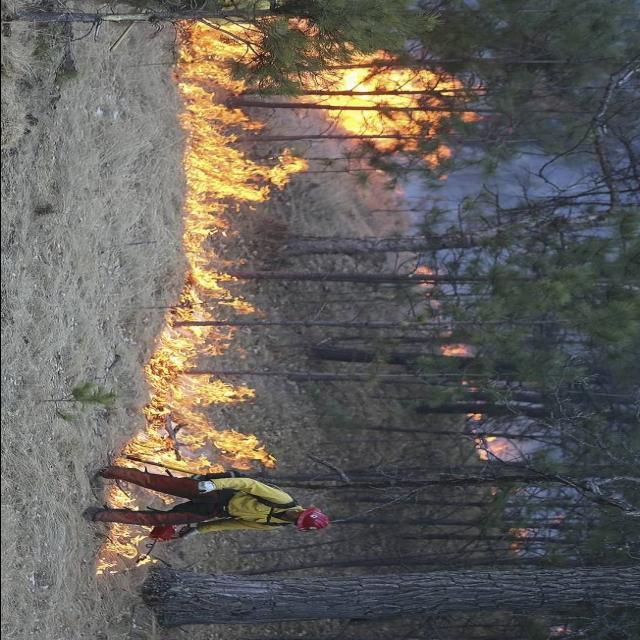Fire: (86, 207, 306, 579), (174, 10, 498, 204), (466, 410, 511, 460), (433, 340, 473, 360), (403, 265, 437, 288)
